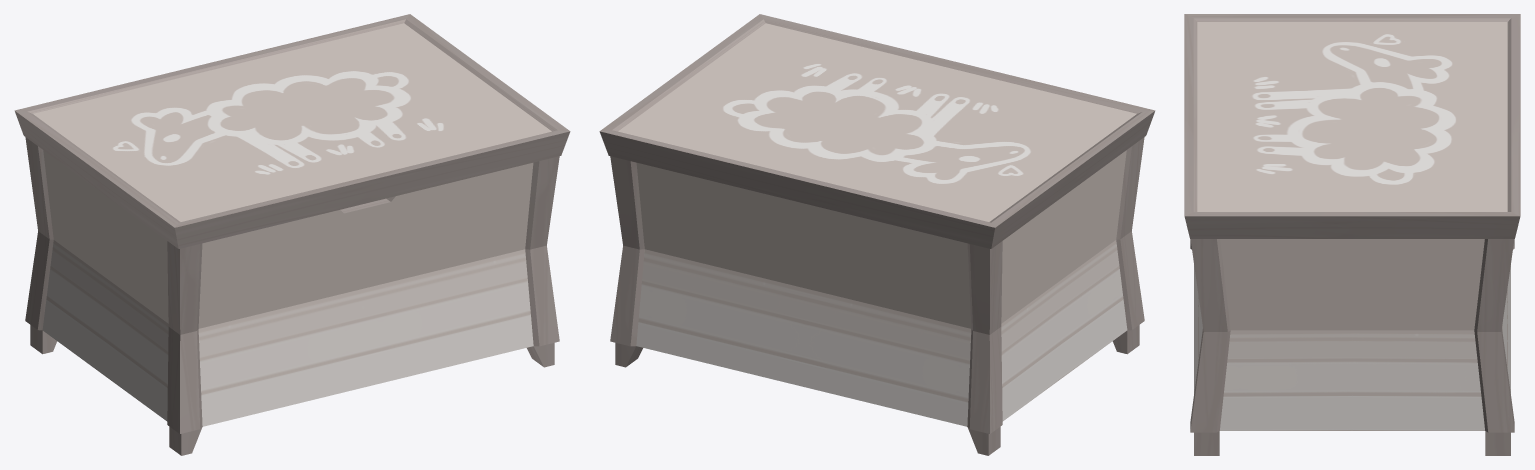
The model's file is toybox.fbx.
The picture shows the model from 3 angles, left to right: view 1: azimuth 30°, elevation 25°; view 2: azimuth 150°, elevation 25°; view 3: azimuth 270°, elevation 25°; orthographic projection. The views are drawn at different scales.
Visible parts, largest first — view 1: Boite, Couvercle; view 2: Boite, Couvercle; view 3: Couvercle, Boite.
Part boxes in pixels (x1,y1,x2,y2): Boite: (25, 137, 559, 455); Couvercle: (14, 14, 570, 248); Boite: (610, 137, 1144, 455); Couvercle: (599, 14, 1155, 248); Couvercle: (1184, 14, 1520, 238); Boite: (1190, 239, 1514, 455).
Bounding box in the file's own units: 692 × 391 × 486.
